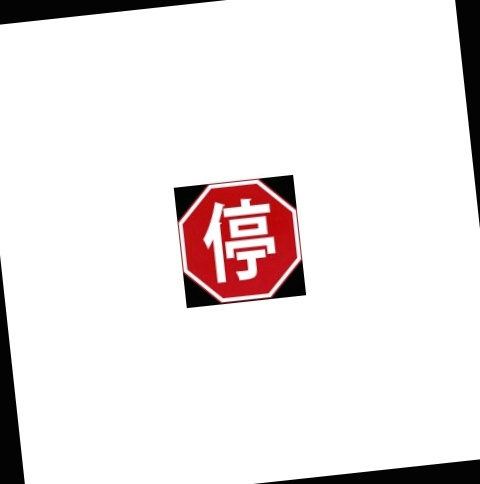China_Stop: (114, 114, 366, 369)
